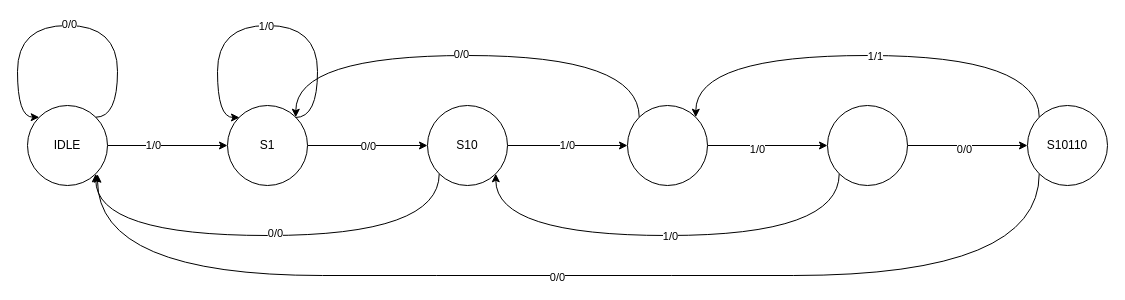
Image size: 1125x300. Some labels were removed from this diagram. The centre of each missing label's shape, as x and y in pixels:
S101: point 667,145
S1011: point 867,145
